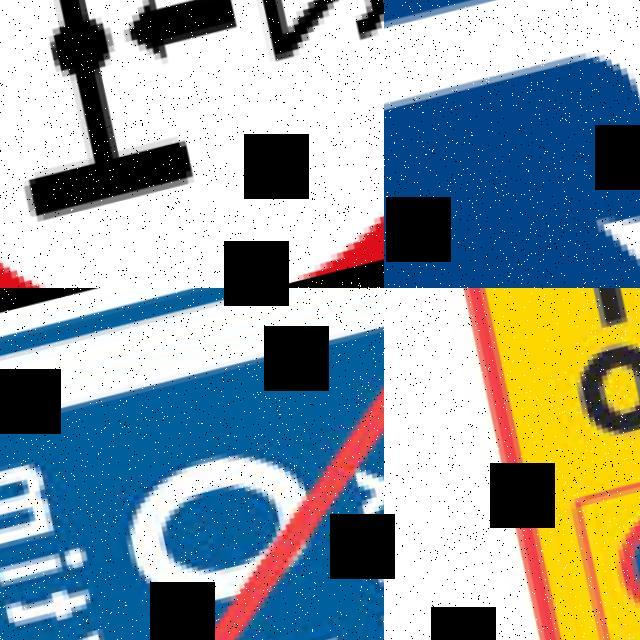103: (0, 288, 384, 640)
181: (405, 288, 640, 640)
Axle weight limit-2ton: (0, 0, 384, 288)
One-way traffic: (0, 0, 384, 288)
Turn left ahead: (384, 0, 640, 288)
